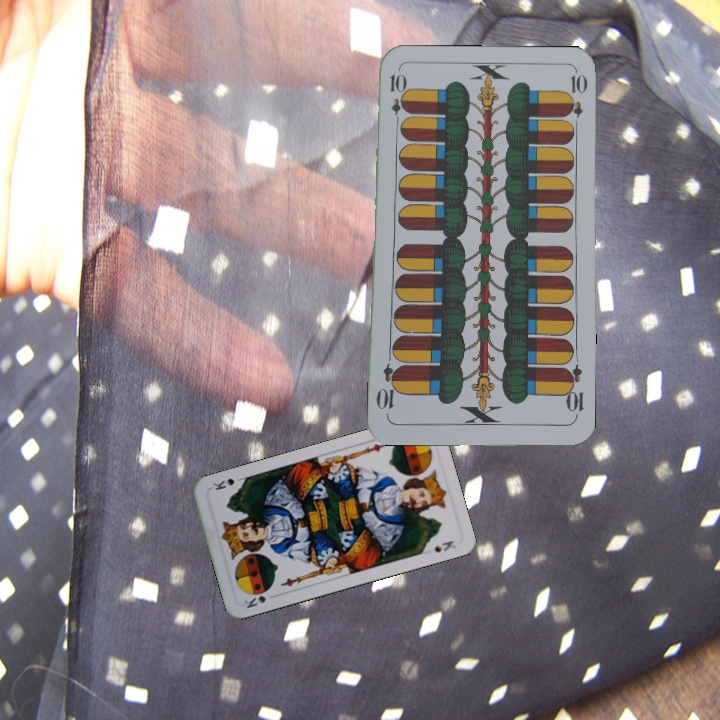E10: (560, 361, 586, 420), (386, 70, 404, 129)
SK: (239, 586, 271, 611)
